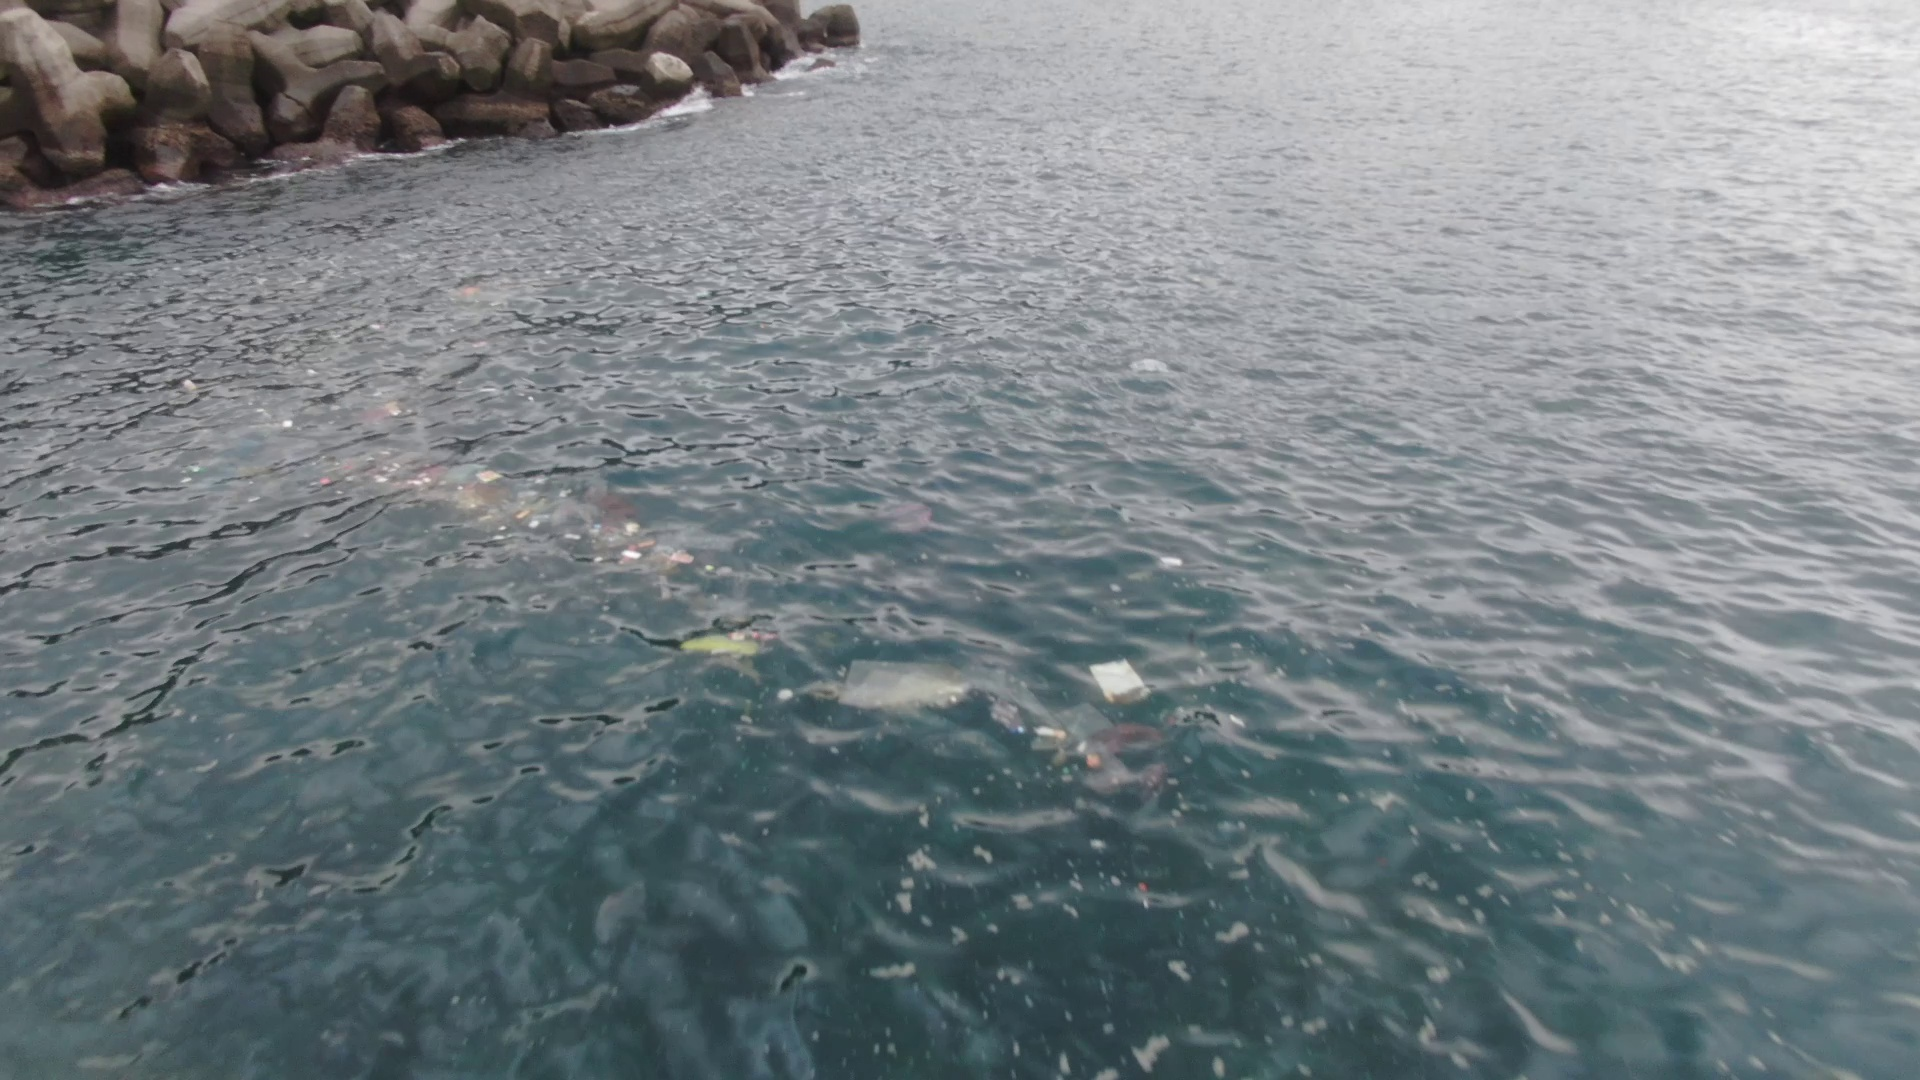garbage: (348, 447, 705, 607), (839, 651, 975, 711), (1089, 651, 1155, 708), (675, 624, 764, 663)
